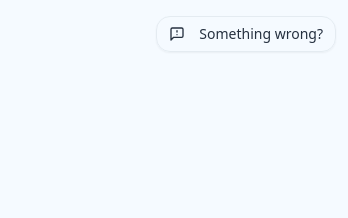
Test: TrialReportControl › can be dismissed without reporting anything
The width and height of the screenshot is (348, 218).
Click the button "Something wrong?": x=246, y=34 top-left (156, 16), bottom-right (336, 52)
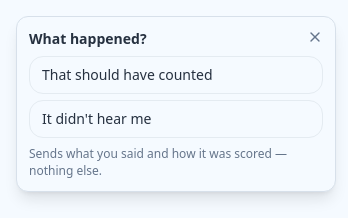
Click the button named "close": x=315, y=37 top-left (307, 29), bottom-right (323, 45)
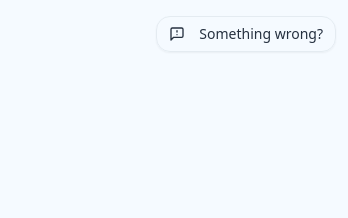
Check: the button "Something wrong?" is shown, box top-left (156, 16), bottom-right (336, 52)
